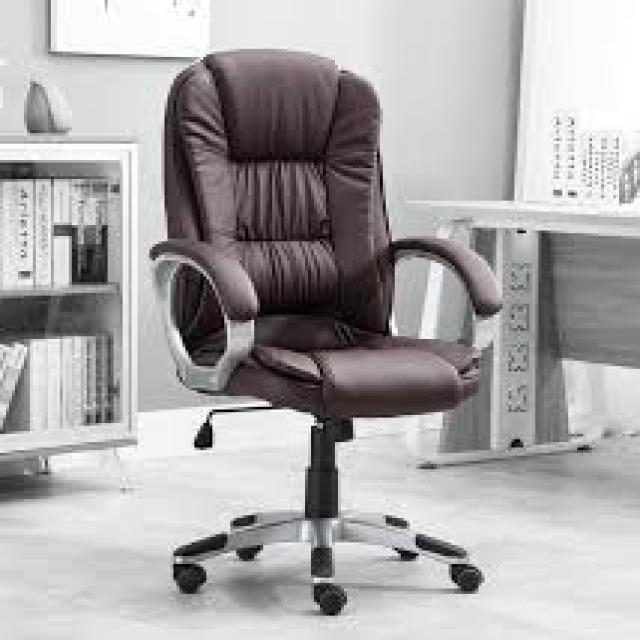chair: (91, 24, 539, 640)
